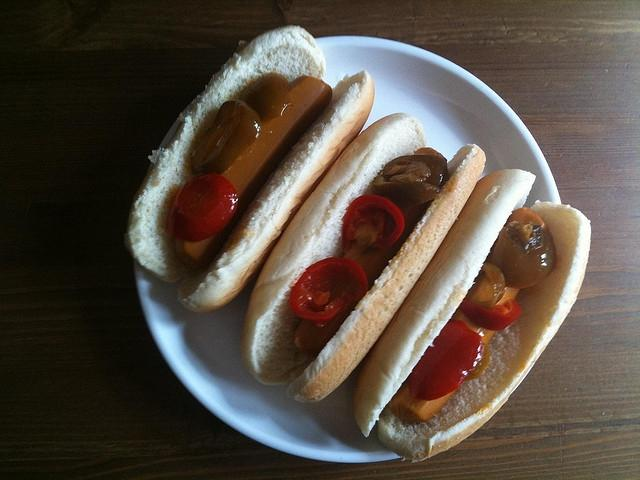bell pepper: (408, 320, 486, 402), (484, 207, 557, 289), (165, 172, 239, 242), (290, 257, 368, 322), (372, 154, 450, 210), (344, 194, 404, 248), (459, 300, 521, 332), (464, 262, 507, 308)
